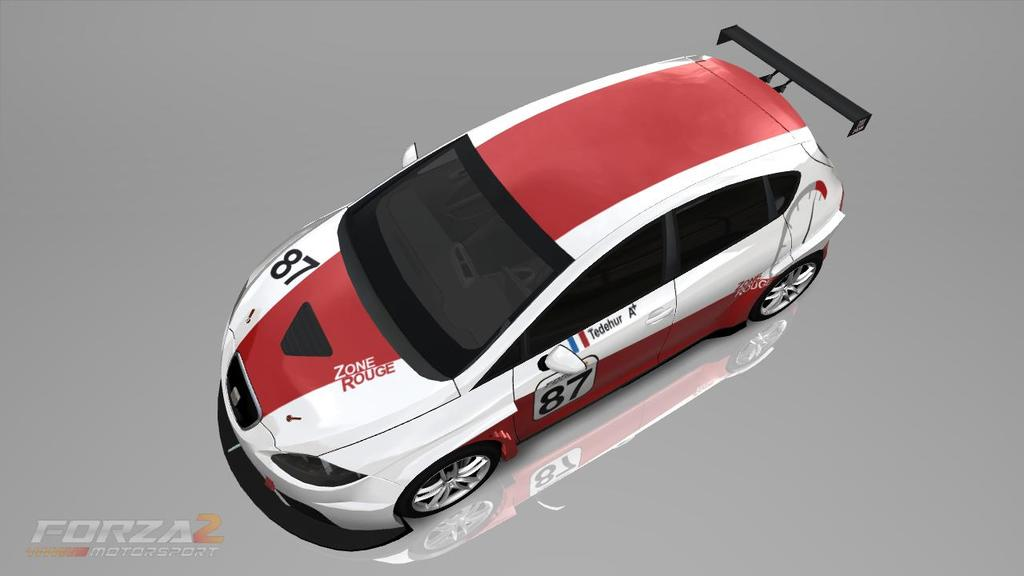Car: (233, 65, 835, 537)
